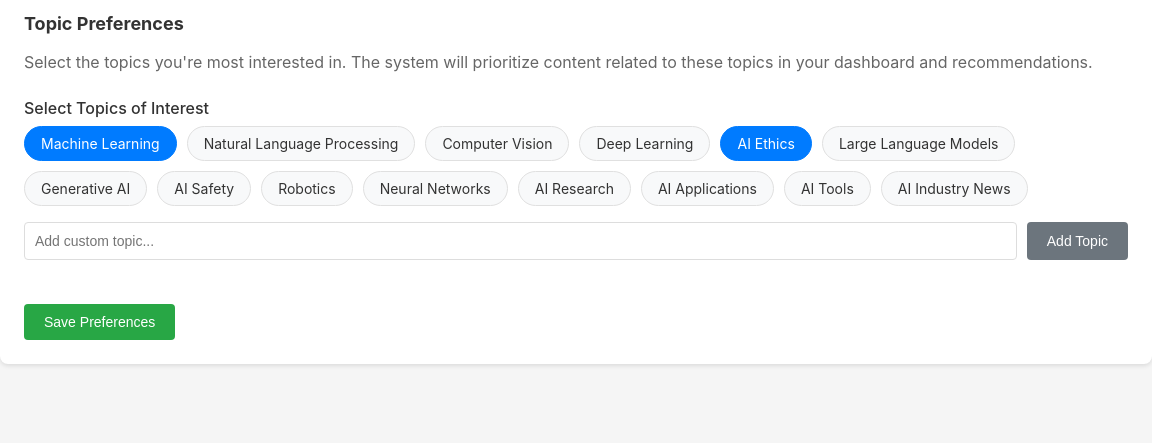
it: TopicPreferences Component › shows success message after successful save
Click the button "Save Preferences" at (100, 322), box top-left (24, 304), bottom-right (175, 340)
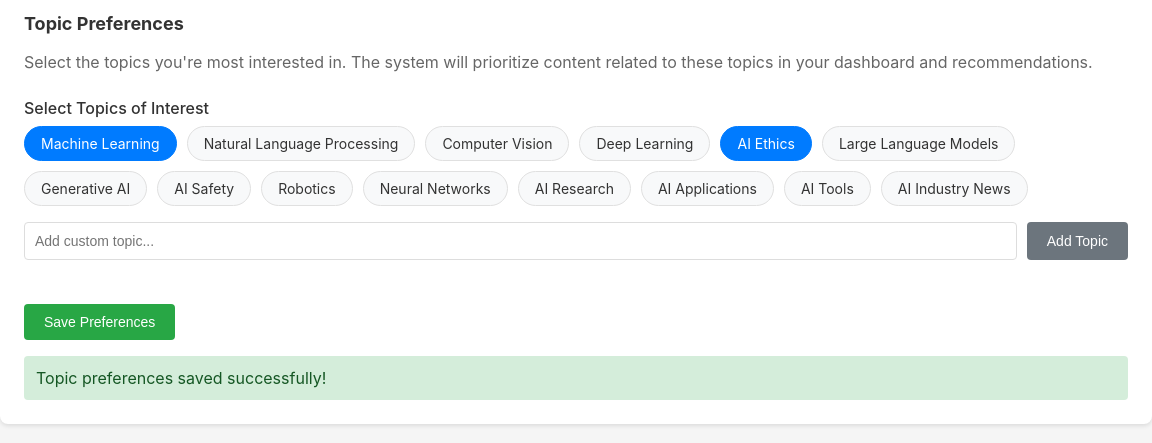
Expected: the text "Topic preferences saved successfully!" is shown, top-left (24, 356), bottom-right (1128, 400)
